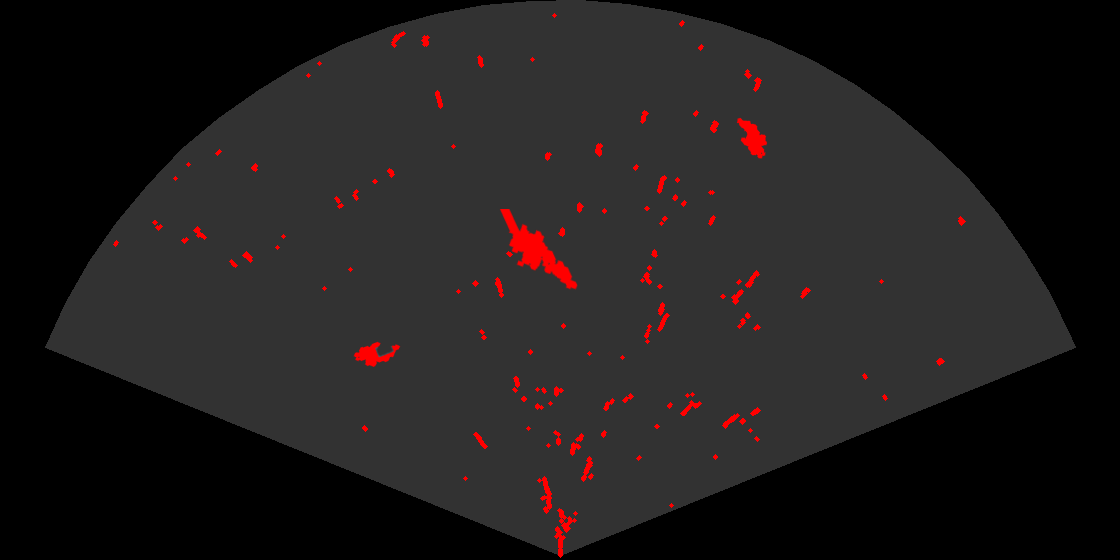AUV: (735, 116, 769, 160), (352, 340, 402, 368)
frogman: (498, 209, 579, 291)
